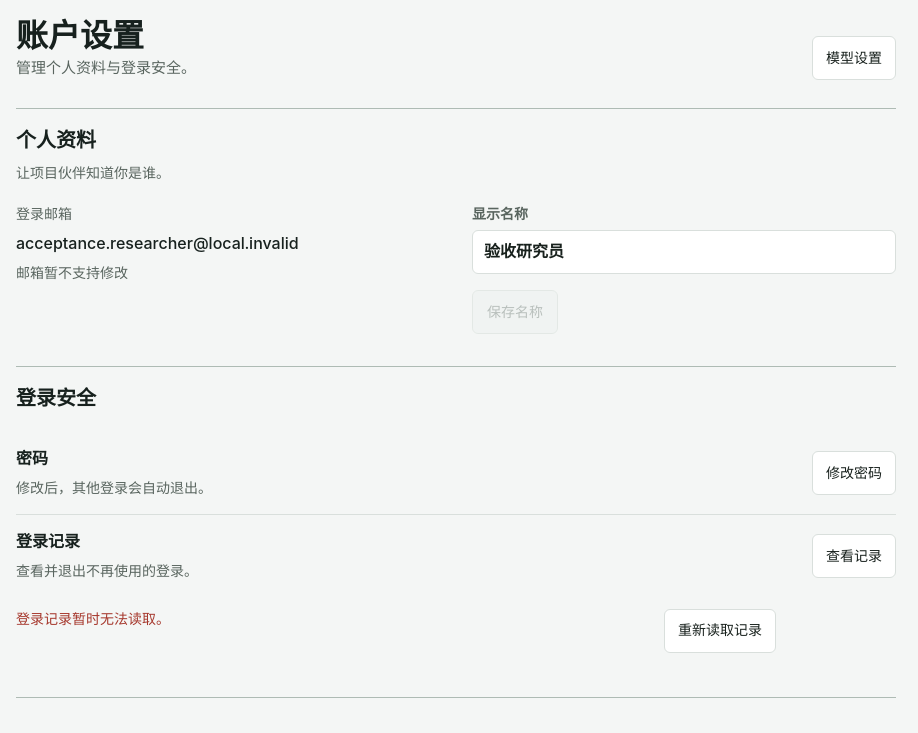
Scenario: offers an in-place retry when sessions are temporarily unavailable
The width and height of the screenshot is (918, 733).
Expected: the heading "账户设置" is shown, [16, 16, 144, 55]
Expected: the message shows "登录记录暂时无法读取", [16, 610, 170, 627]
Replace the text in the field labelled "显示名称" with "未保存的新名称" at (684,252), box [472, 230, 896, 274]
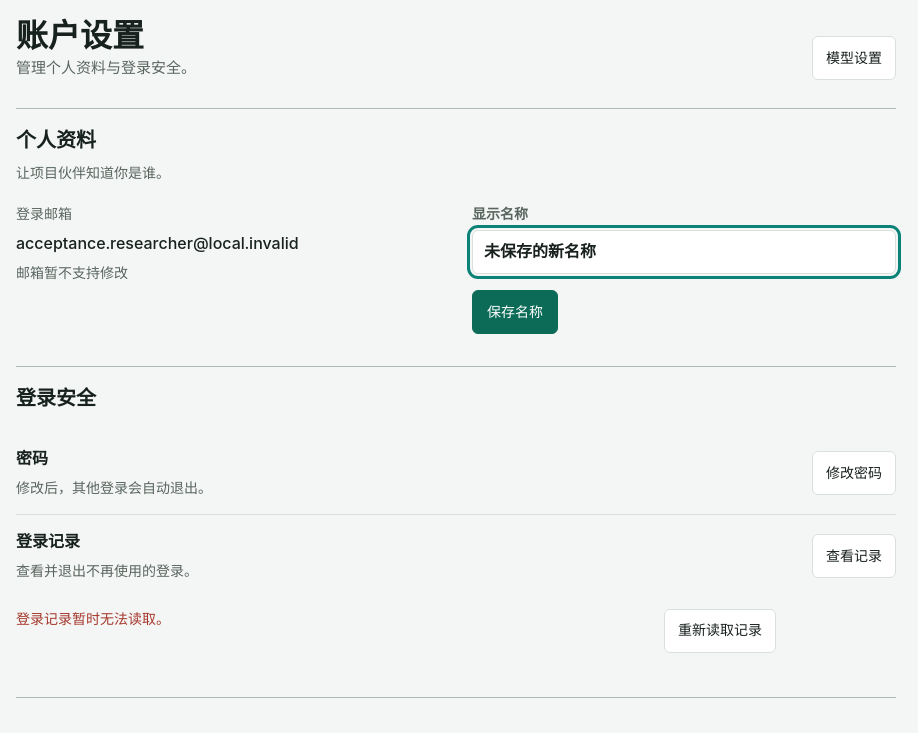
Click the button "重新读取记录".
click(720, 631)  # box [664, 609, 776, 653]
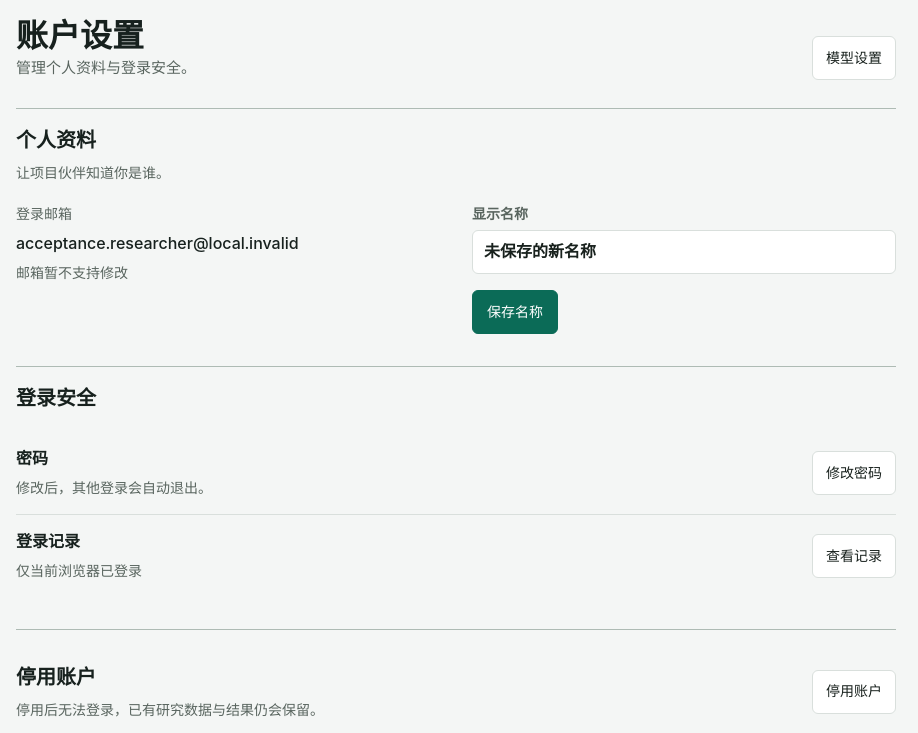
Expected: the text "仅当前浏览器已登录" is shown, [16, 560, 142, 581]
